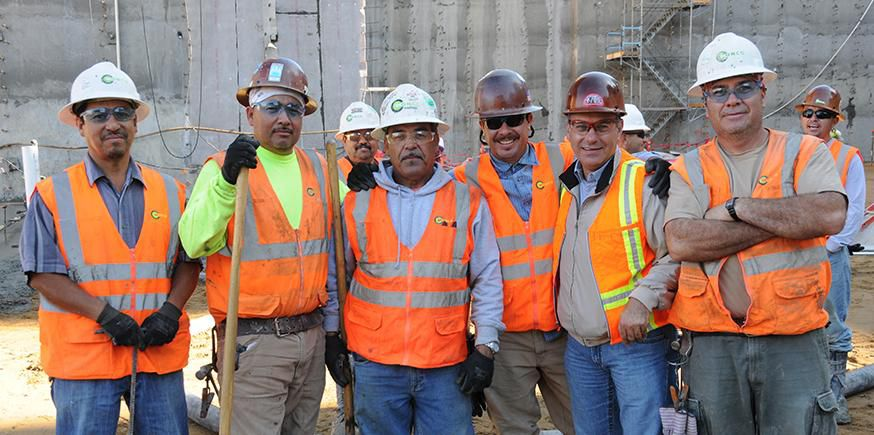epi: (19, 58, 199, 435), (664, 29, 812, 435), (185, 53, 341, 435), (374, 80, 505, 435), (451, 65, 570, 435), (550, 67, 668, 435), (790, 74, 869, 435), (326, 93, 388, 205)
